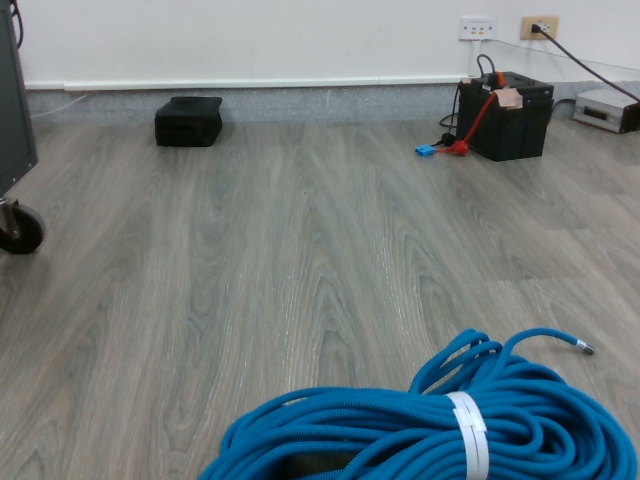rope: (195, 321, 640, 480)
